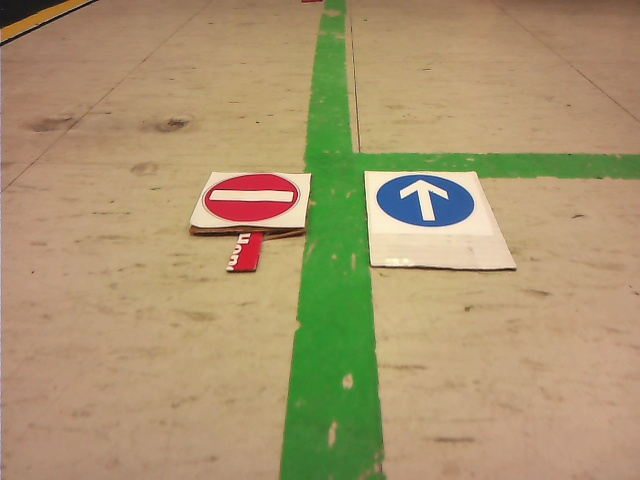GO FORWARD: (377, 174, 474, 228)
NO ENTRY: (205, 174, 298, 221)
